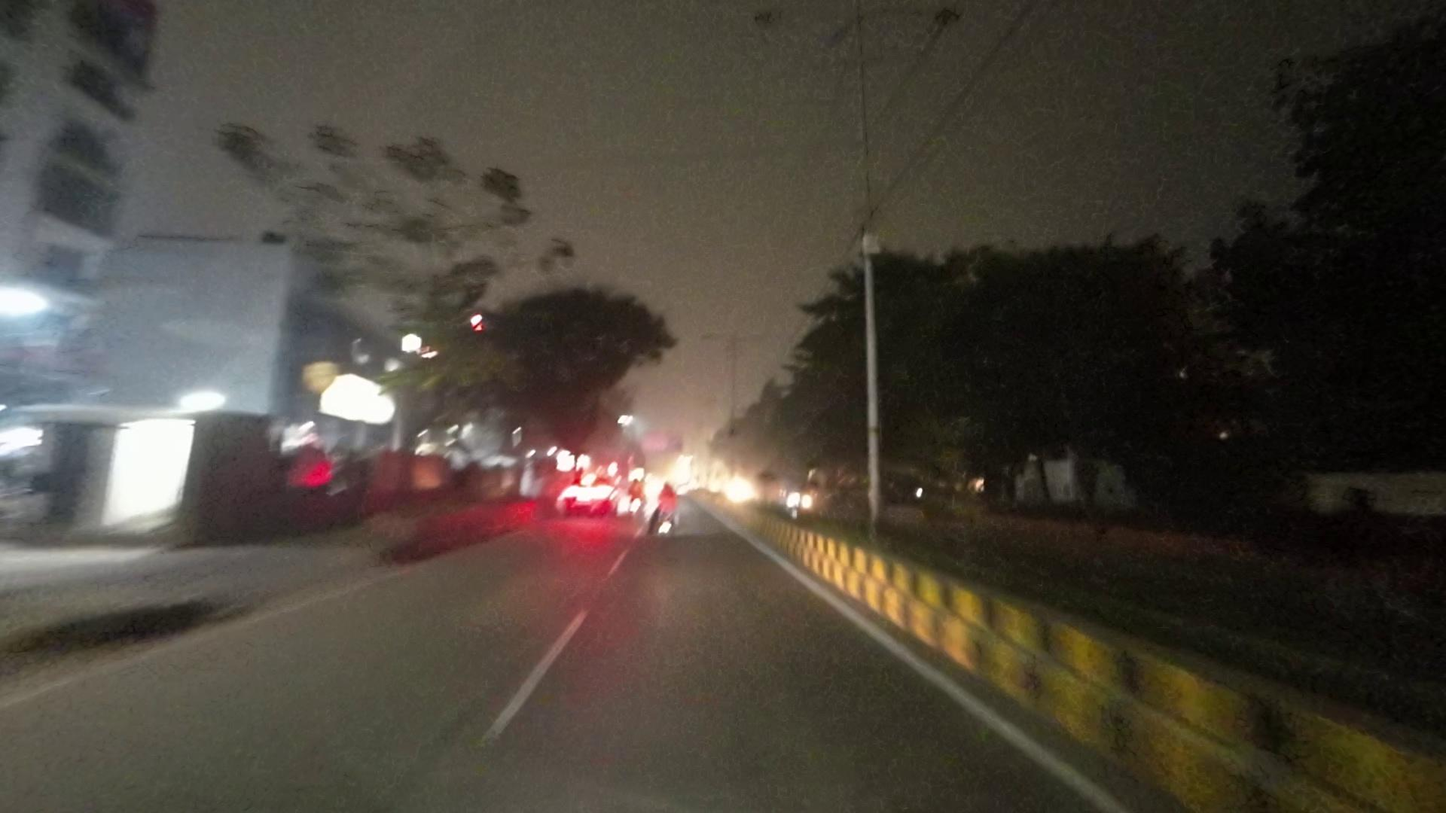streetlight: (747, 6, 848, 37), (868, 3, 965, 31)
